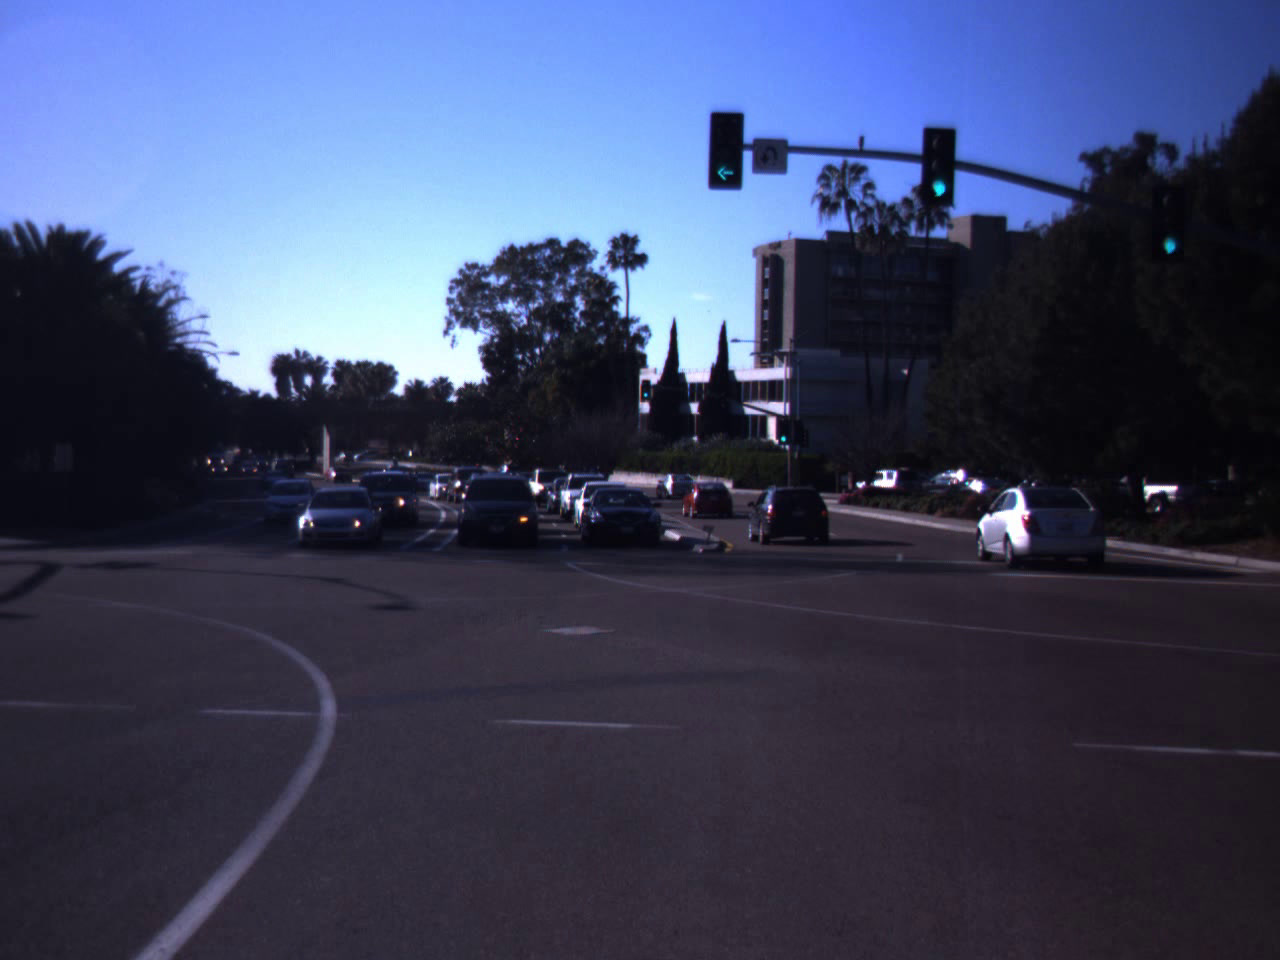go: (698, 108, 749, 188), (926, 145, 953, 200), (1160, 207, 1181, 257)
